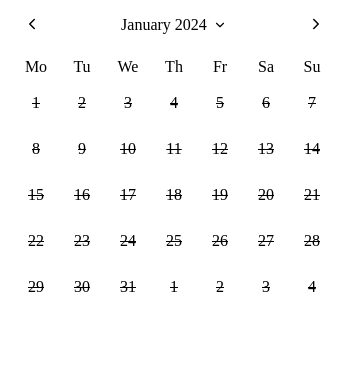
Test: Calendar › year / month views › disables years and months outside min/max
The width and height of the screenshot is (349, 370).
What coordinates should you click on to do the following:
click the button with aria-label "Choose year"
I would click on:
 (174, 25)
Its box is [121,16,227,34].
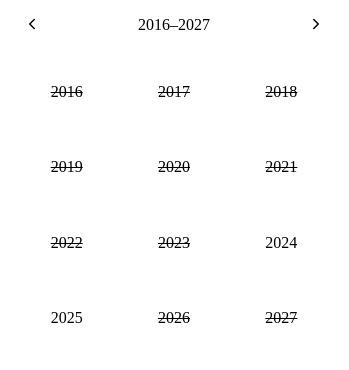
Expected: the button "2023" is disabled, [123,208,225,278]
Expected: the button "2026" is disabled, [123,284,225,353]
What coordinates should you click on to do the following:
click the button "2024"
I would click on:
 (281, 243)
Its box is [231,208,332,278].
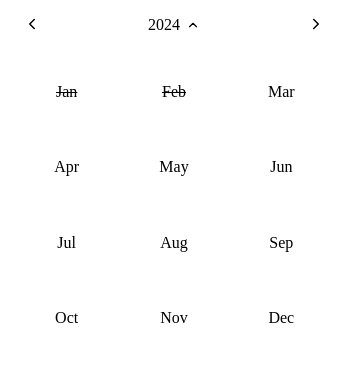
Expected: the button "Jan" is disabled, [16,57,117,126]
Expected: the button "Feb" is disabled, [123,57,225,126]
Expected: the button "Mar" is enabled, [231,57,332,126]
